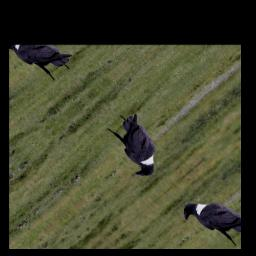Crow: (96, 108, 179, 182)
